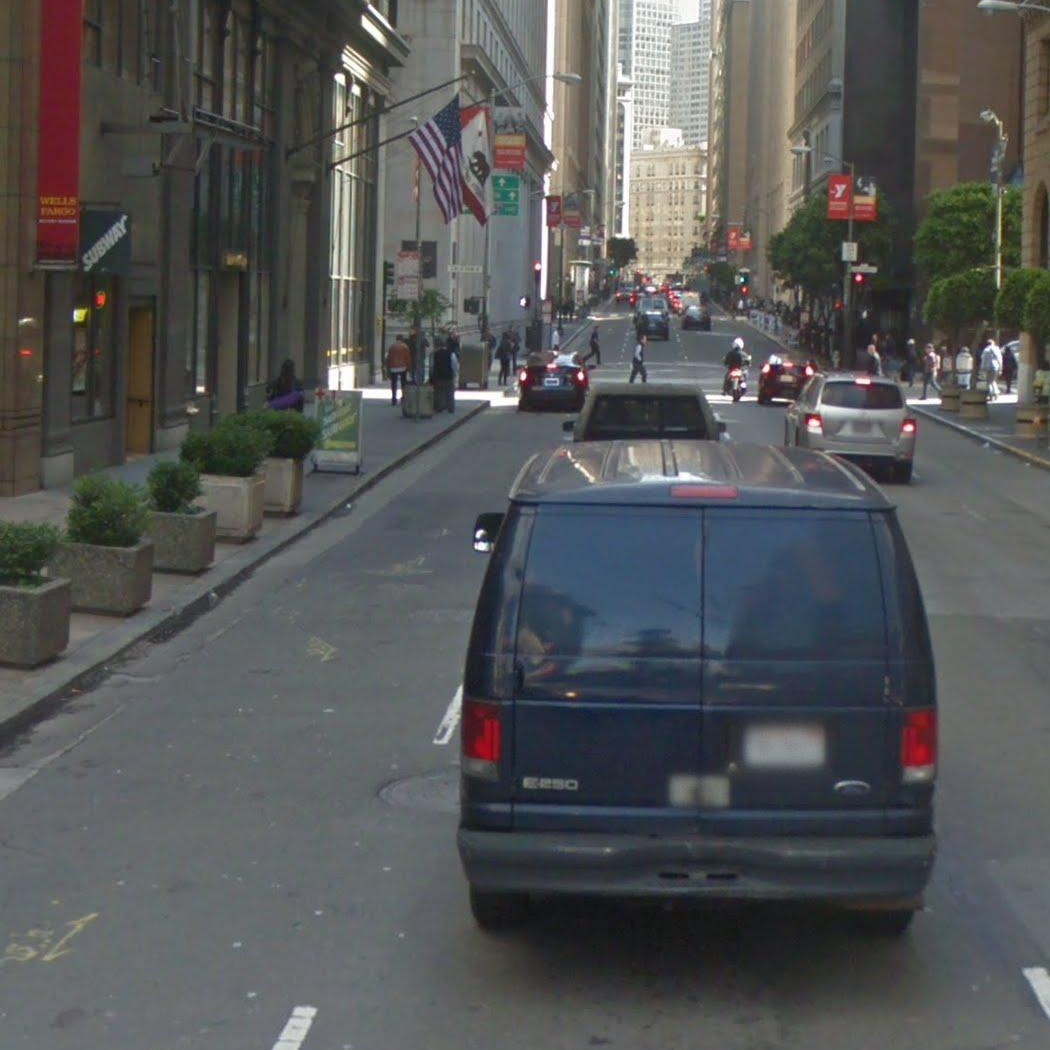No Parking: (394, 278, 419, 303)
